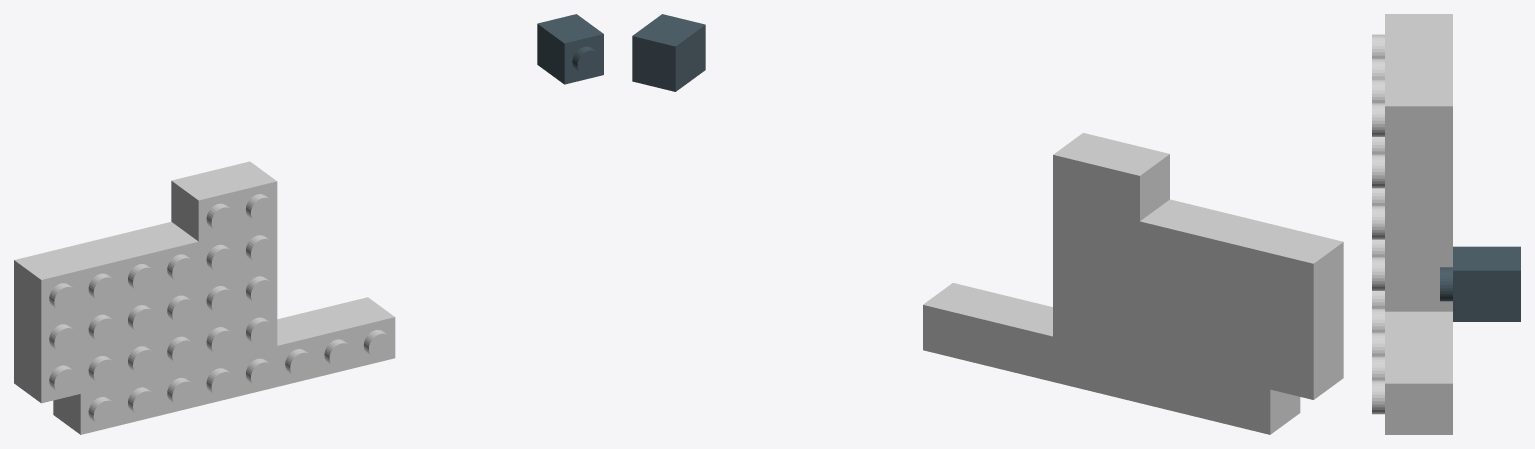
The model's file is current.glb.
The picture shows the model from 3 angles, left to right: view 1: azimuth 30°, elevation 25°; view 2: azimuth 150°, elevation 25°; view 3: azimuth 270°, elevation 25°; orthographic projection. The views are drawn at different scales.
Parts seen in each view (by area): view 1: world; view 2: world; view 3: world.
Boxes of the visible parts, x1,y1,x2,y2 form: world: (14, 14, 603, 434); world: (632, 14, 1343, 434); world: (1372, 14, 1520, 434).
Bounding box in the file's own units: 120 × 48 × 21.
